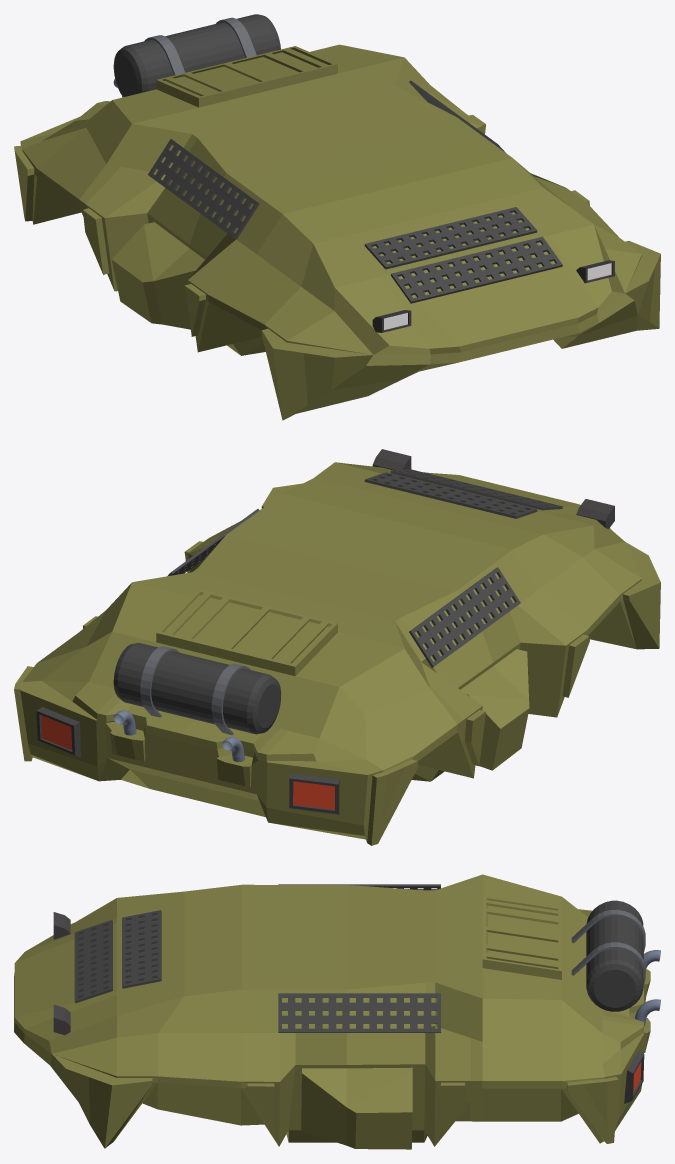
Rendered from BvpGreen.fbx.
The picture shows the model from 3 angles, top to bottom: view 1: azimuth 30°, elevation 25°; view 2: azimuth 150°, elevation 25°; view 3: azimuth 270°, elevation 25°; orthographic projection. The views are drawn at different scales.
Visible parts, largest first — view 1: BvpTrunkGreen; view 2: BvpTrunkGreen; view 3: BvpTrunkGreen.
Part boxes in pixels (x1,y1,x2,y2): BvpTrunkGreen: (14,14,660,420); BvpTrunkGreen: (14,449,660,845); BvpTrunkGreen: (14,874,660,1149).
Size of the model in its own units: 4.9 by 2.05 by 7.53.
